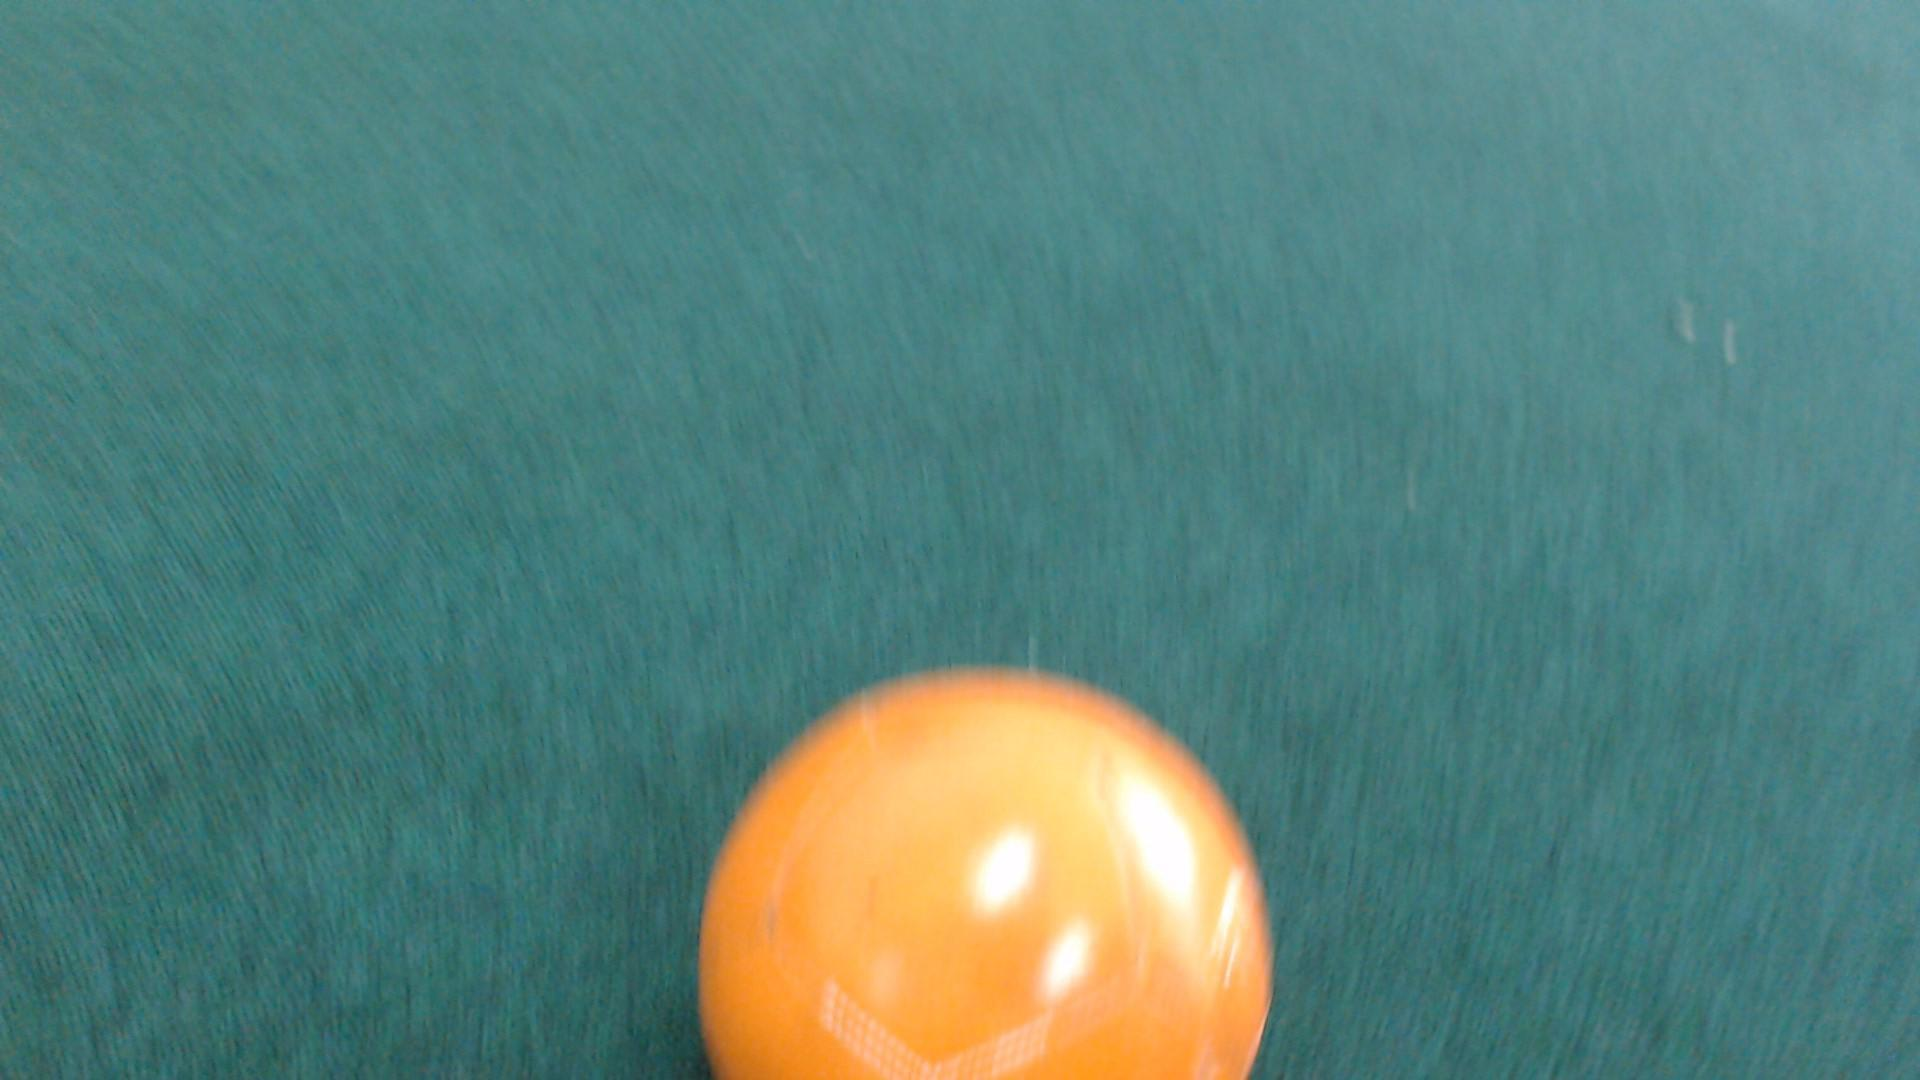bola: (626, 603, 1292, 1079)
